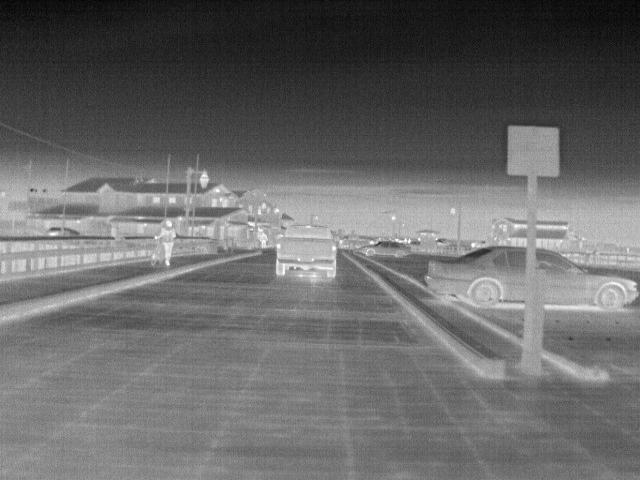car: (537, 246, 639, 311), (426, 248, 524, 308), (272, 223, 338, 279), (358, 239, 410, 259)
person: (153, 219, 180, 267), (257, 229, 269, 249)
